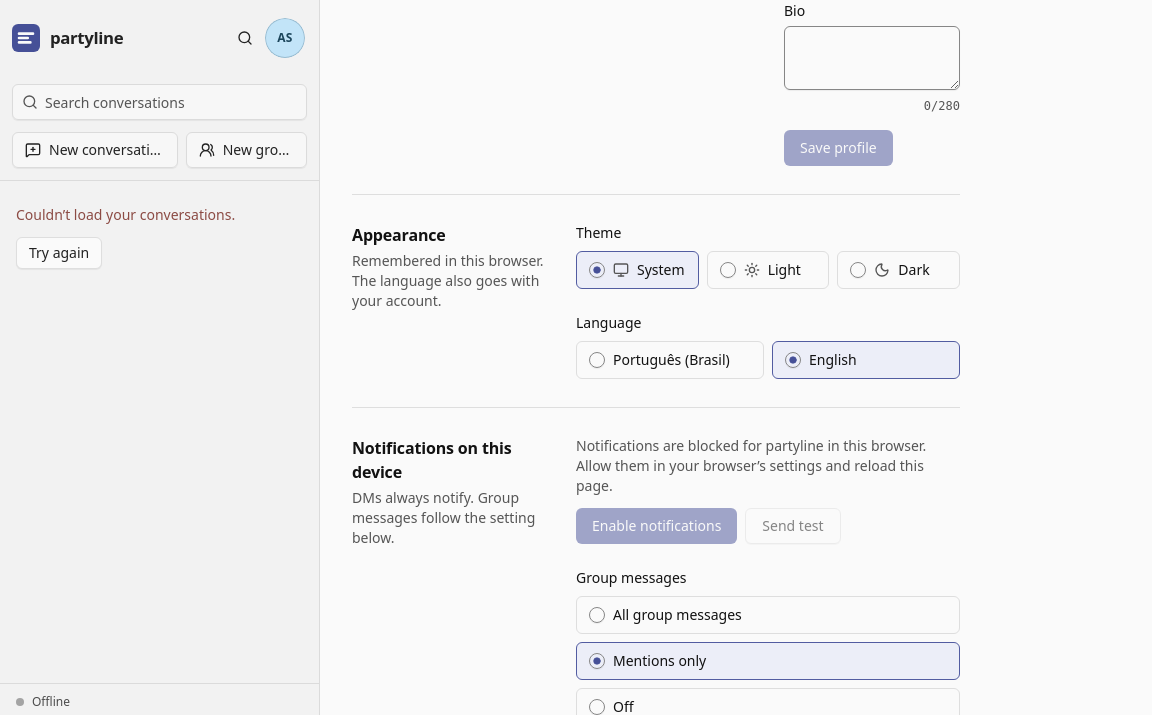
account page › persists the language in localStorage and on the account (UI-25)
(page scrolled)
Click the radio button named "Português (Brasil)" next to "Português (Brasil)" at coordinates (597, 360), box [589,352,605,368]
(page scrolled)
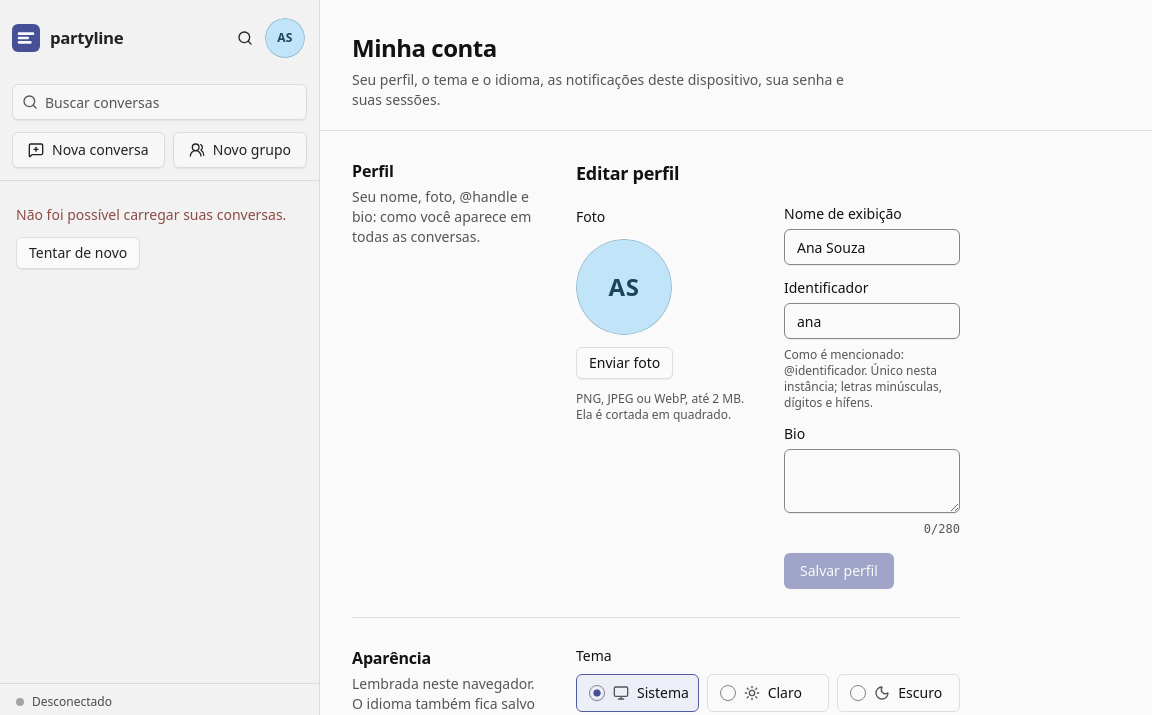
Check: the heading "Minha conta" is shown, box [352,31,497,64]
